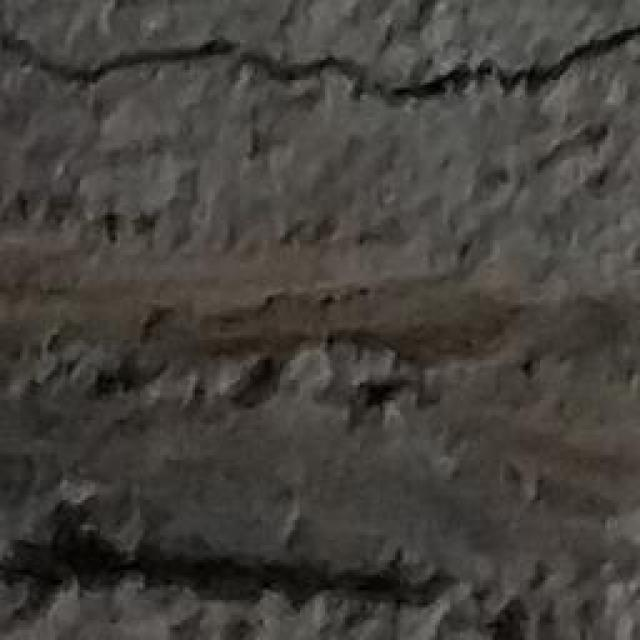Rippled: (0, 120, 626, 473), (475, 476, 640, 640)
Transverse: (0, 487, 472, 637), (0, 10, 640, 114)
